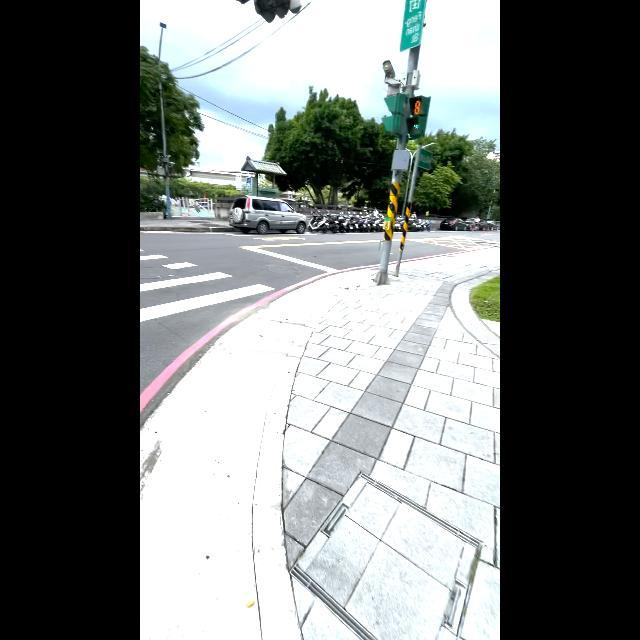sidewalk: (141, 246, 272, 414)
